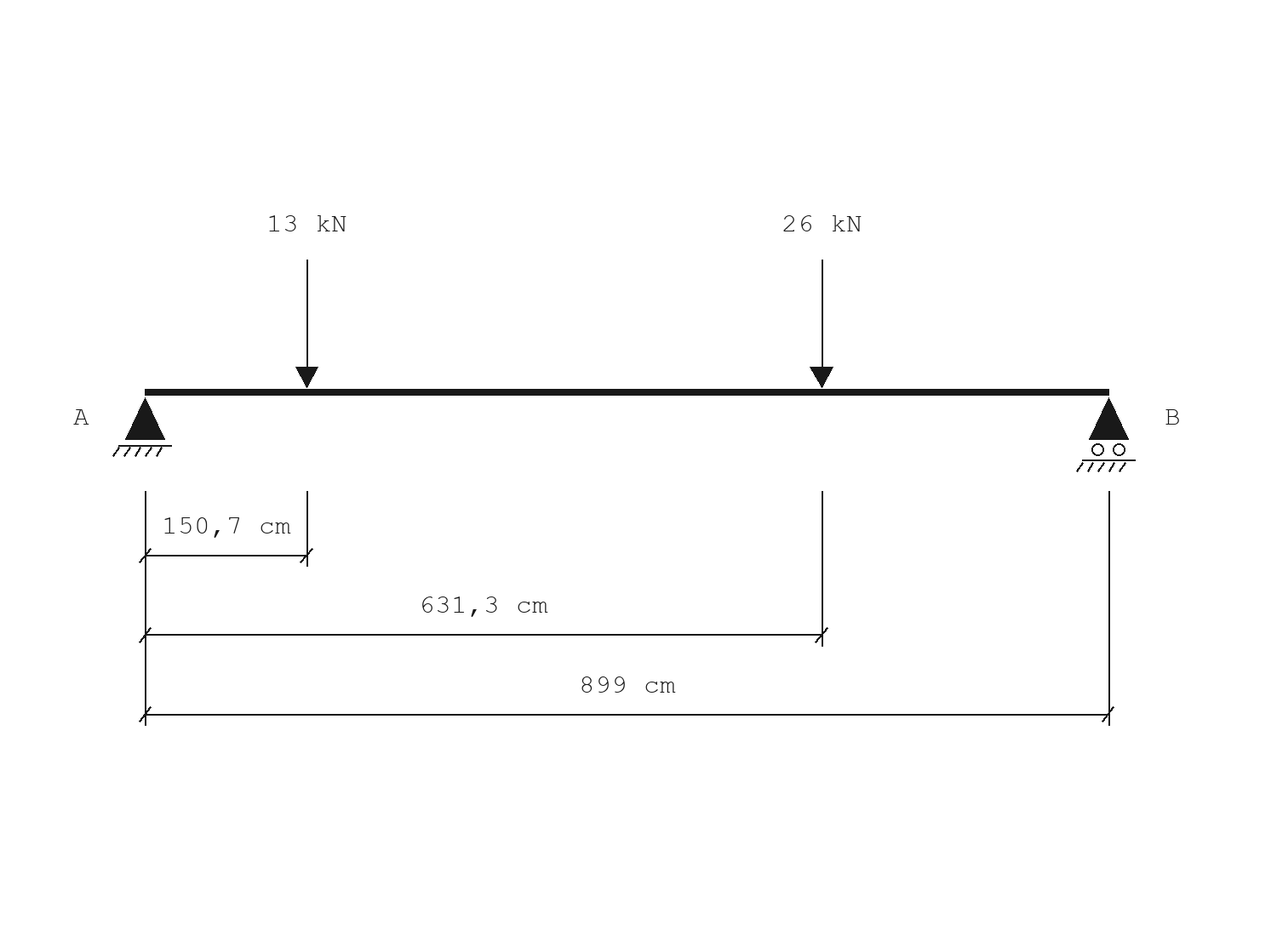pin_support: (112, 397, 172, 457)
point_load: (295, 260, 318, 388), (810, 260, 833, 388)
roller_support: (1076, 397, 1136, 472)
